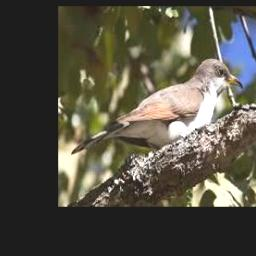Cuckoo: (72, 58, 244, 156)
